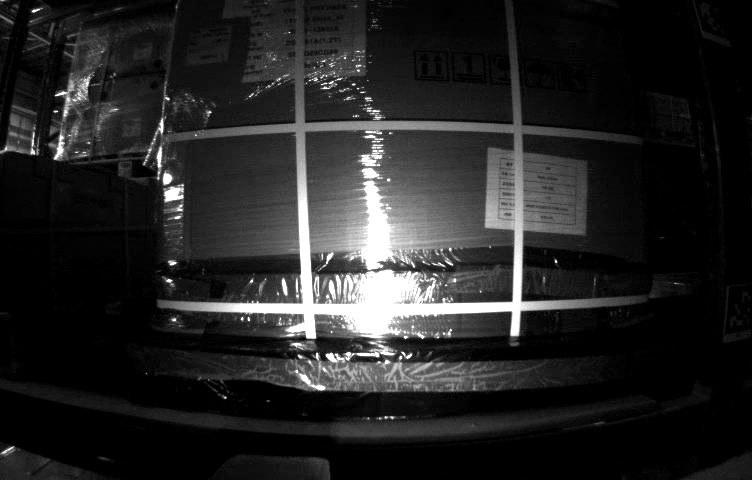True Barcode: (187, 28, 229, 62)
